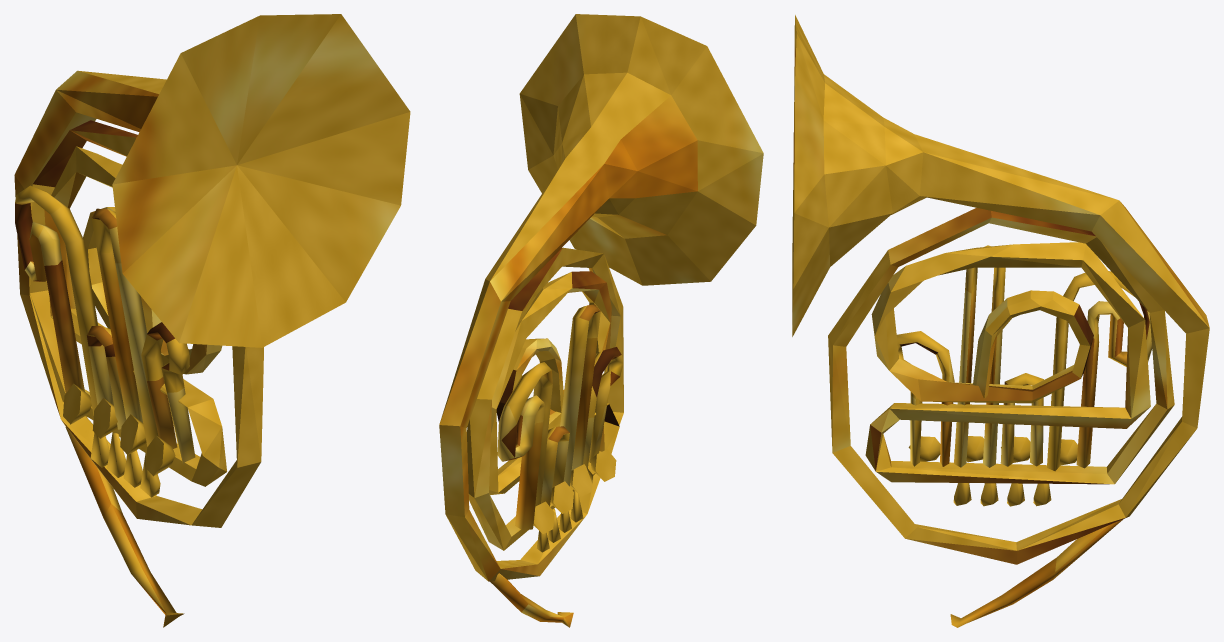
File: frenchhorn.fbx
The picture shows the model from 3 angles, left to right: view 1: azimuth 30°, elevation 25°; view 2: azimuth 150°, elevation 25°; view 3: azimuth 270°, elevation 25°; orthographic projection. The views are drawn at different scales.
Parts seen in each view (by area): view 1: Trumpet; view 2: Trumpet; view 3: Trumpet.
Boxes of the visible parts, box(x1,y1,x2,y2) form: Trumpet: box(14, 14, 410, 627); Trumpet: box(439, 14, 763, 627); Trumpet: box(792, 15, 1209, 627).
Bounding box in the file's own units: 8.73 × 18.98 × 12.03.
